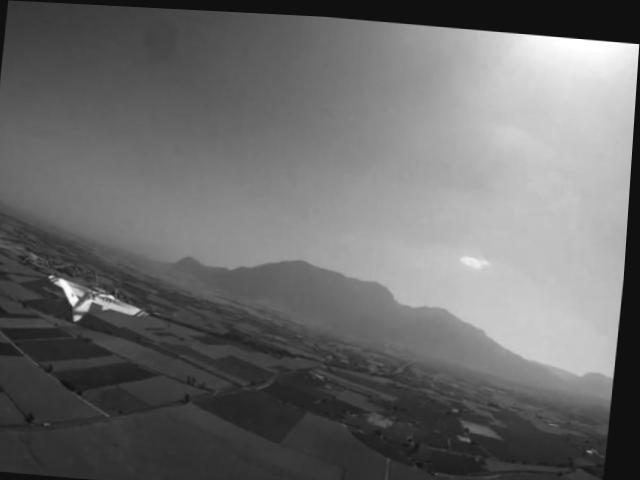hedef: (41, 262, 162, 333)
